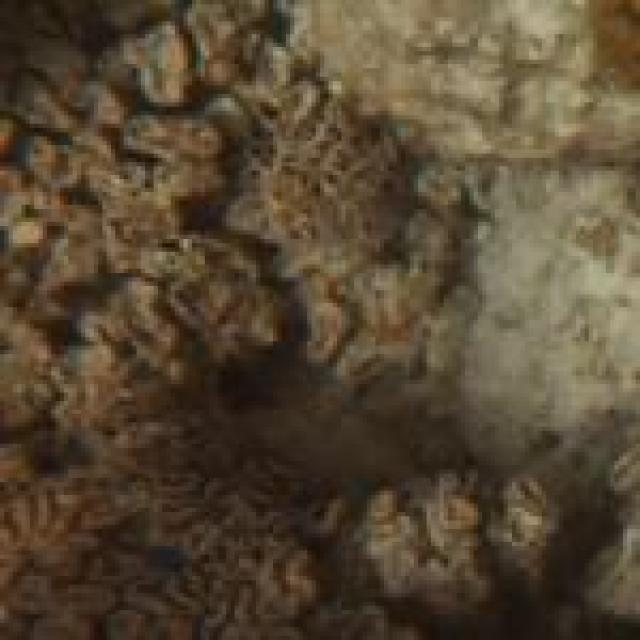Healthy Coral: (0, 0, 438, 640)
